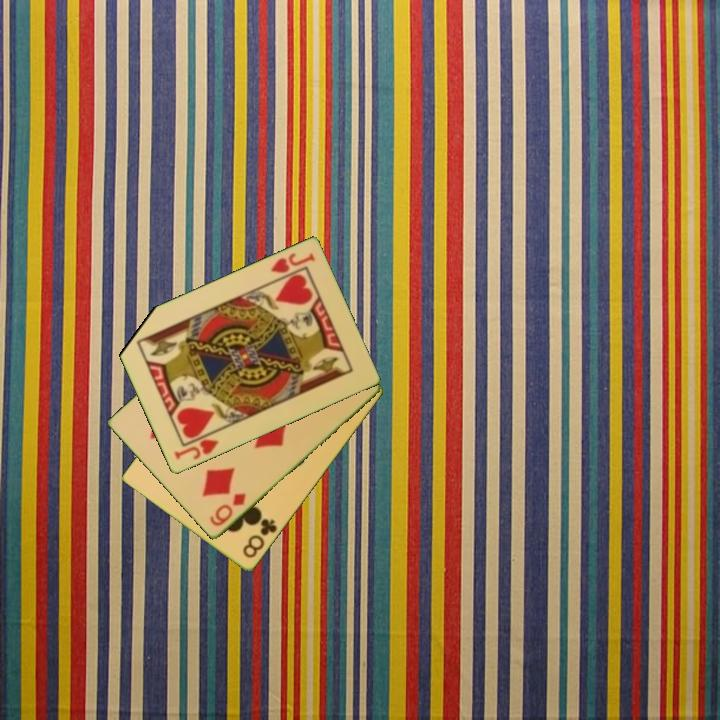6d: (206, 490, 249, 529)
8c: (239, 515, 280, 562)
Jh: (170, 427, 222, 463), (267, 250, 318, 276)
